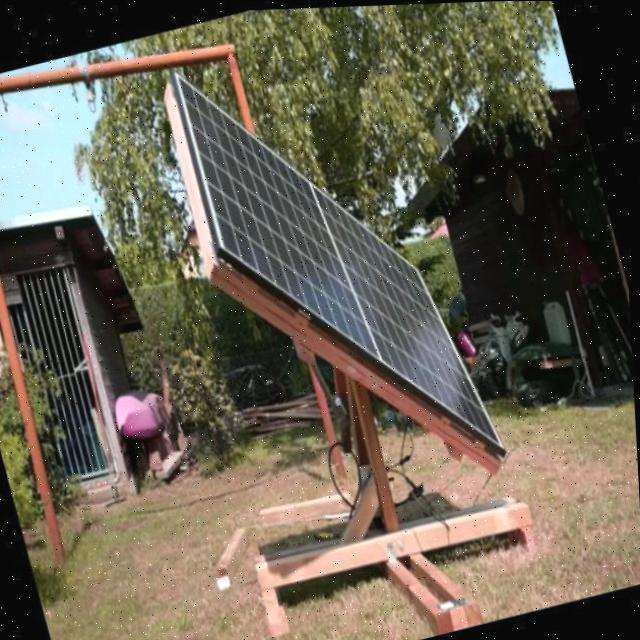Normal Solar Panel: (174, 14, 509, 504)
